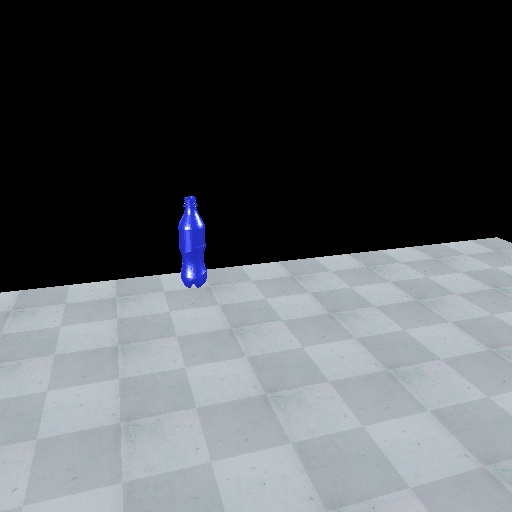bottle: (174, 193, 210, 290)
